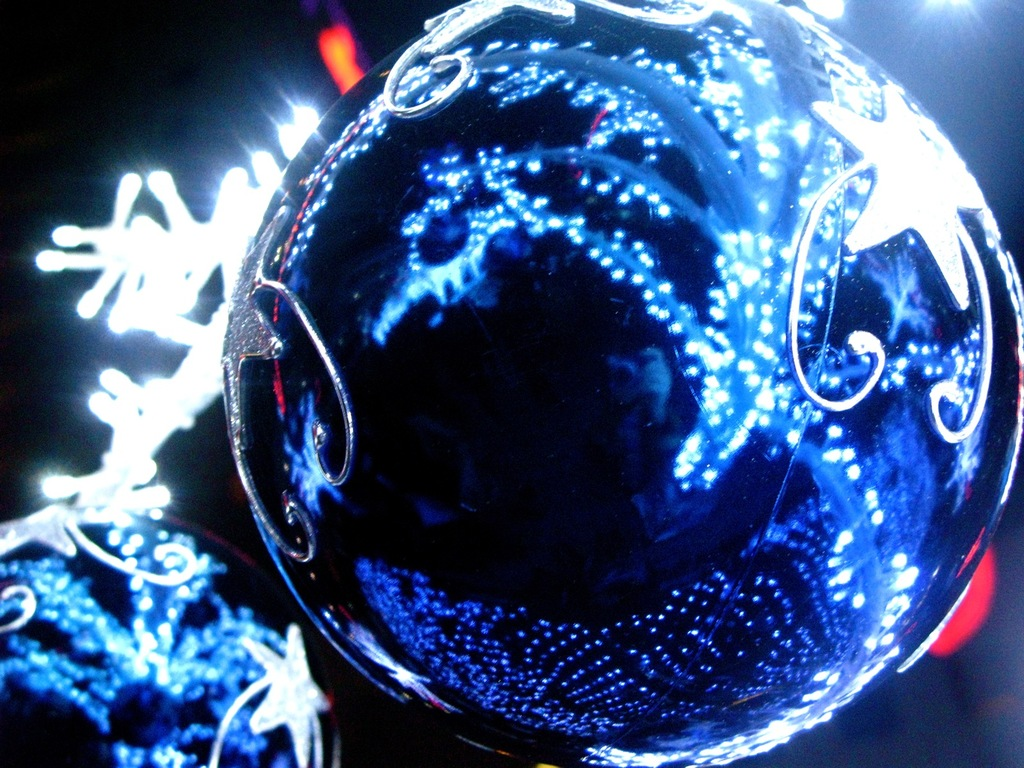Ball: (223, 0, 1023, 767)
